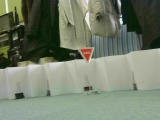stop: (77, 46, 96, 64)
